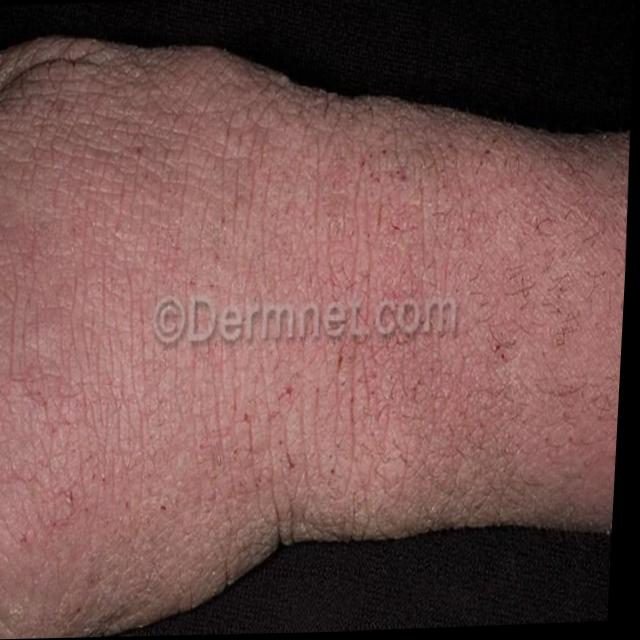liquenificacion 1: (0, 3, 639, 607)
liquenificacion 2: (0, 3, 639, 607)
